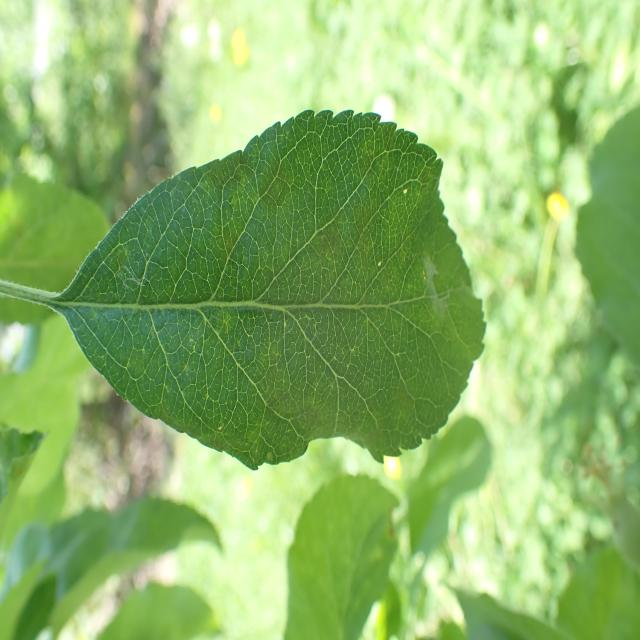scab: (82, 162, 467, 461)
